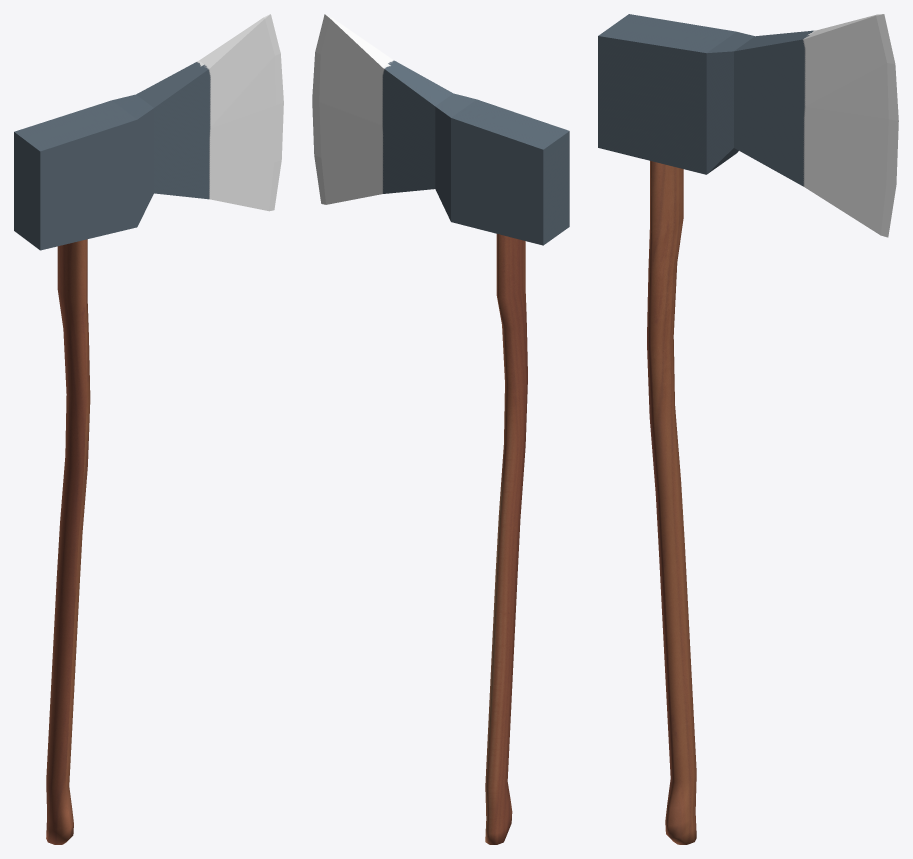
Rendered from AXE_2.fbx.
3 views of the same model, side by side, from view 1: azimuth 30°, elevation 25°; view 2: azimuth 150°, elevation 25°; view 3: azimuth 330°, elevation 25° (orthographic). The views are drawn at different scales.
Parts seen in each view (by area): view 1: axe_geo1; view 2: axe_geo1; view 3: axe_geo1.
Part boxes in pixels (x1=…): axe_geo1: x1=14, y1=14, x2=283, y2=844; axe_geo1: x1=312, y1=14, x2=569, y2=844; axe_geo1: x1=598, y1=14, x2=898, y2=844.
Size of the model in its own units: 1.17 by 3.47 by 0.2969.
